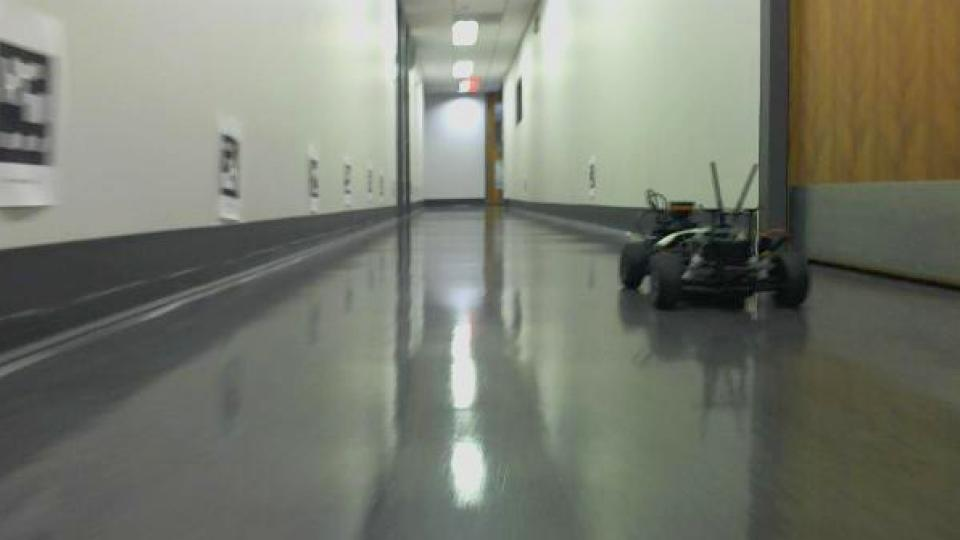car: (616, 156, 813, 321)
